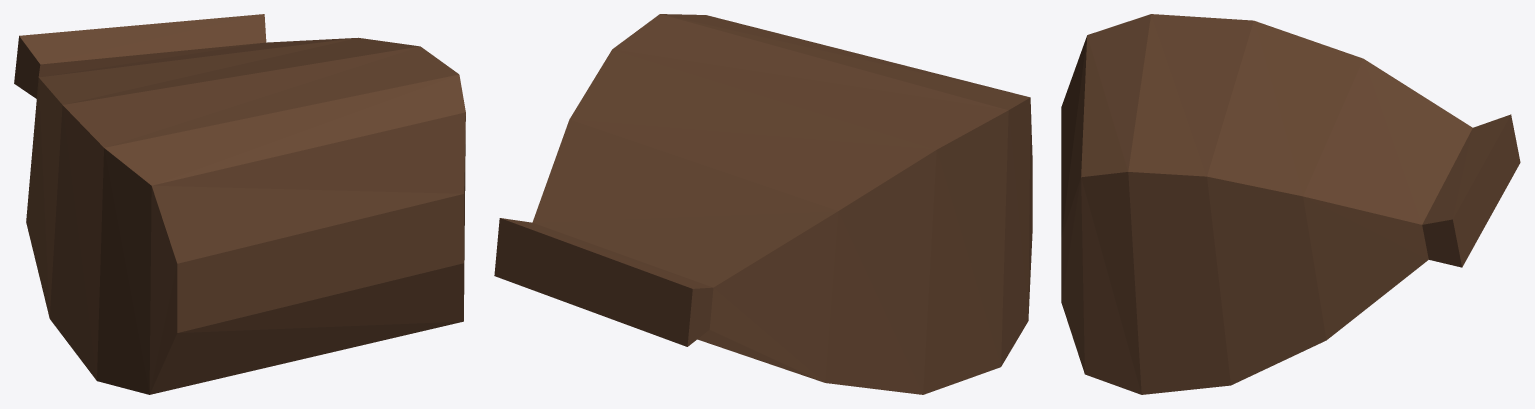
The model's file is Sack 01.FBX.
3 views of the same model, side by side, from view 1: azimuth 30°, elevation 25°; view 2: azimuth 150°, elevation 25°; view 3: azimuth 270°, elevation 25° (orthographic). The views are drawn at different scales.
Visible parts, largest first — view 1: Sack 01; view 2: Sack 01; view 3: Sack 01.
Part boxes in pixels (x1=…): Sack 01: x1=14, y1=14, x2=465, y2=394; Sack 01: x1=494, y1=14, x2=1032, y2=394; Sack 01: x1=1061, y1=14, x2=1520, y2=394.
Bounding box in the file's own units: 47.77 × 58.61 × 31.6.
